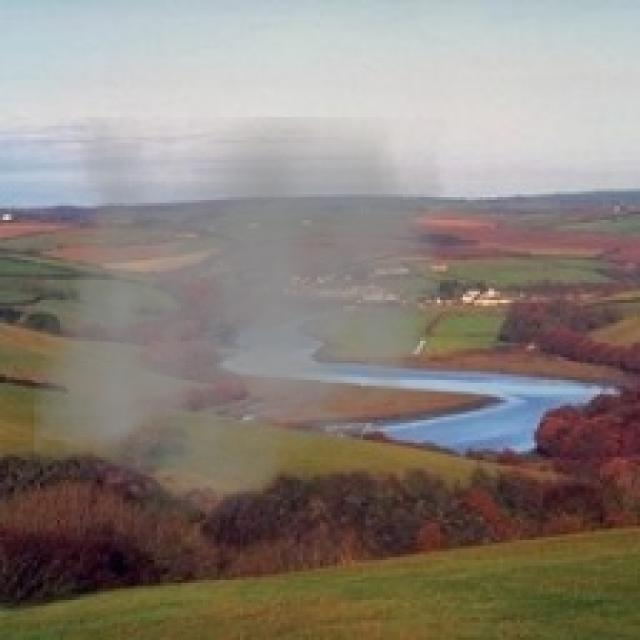smoke: (34, 117, 446, 534)
